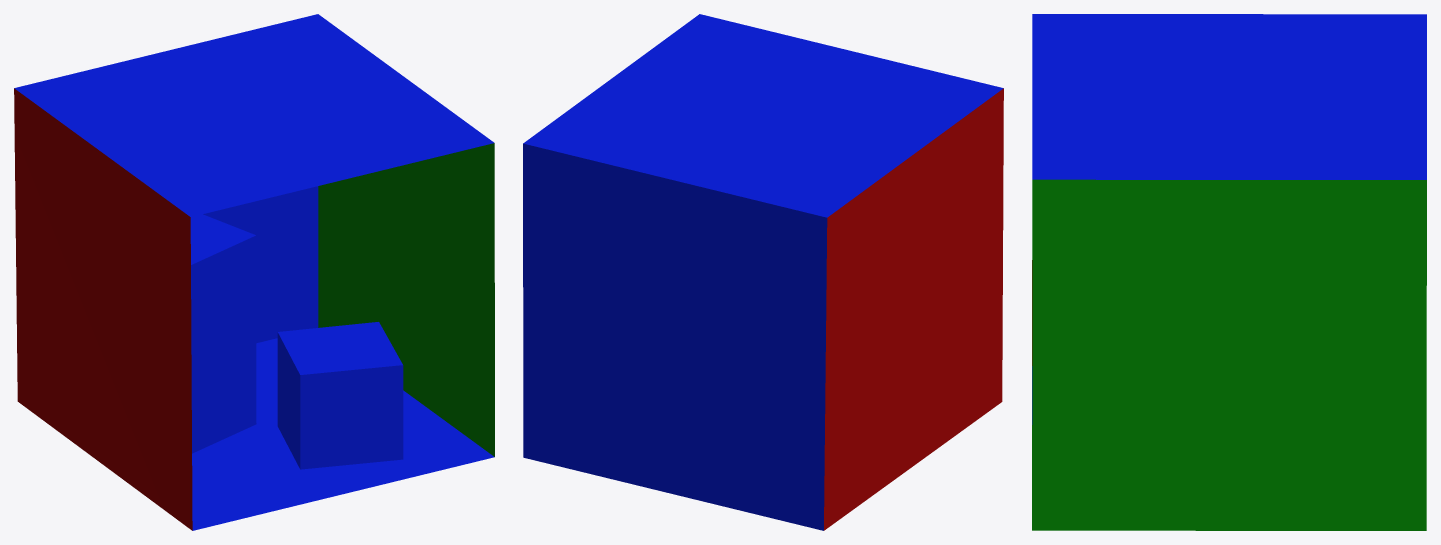
The model's file is CornellBox.gltf.
3 views of the same model, side by side, from view 1: azimuth 30°, elevation 25°; view 2: azimuth 150°, elevation 25°; view 3: azimuth 270°, elevation 25° (orthographic). The views are drawn at different scales.
Parts seen in each view (by area): view 1: left_wall, ceiling, right_wall, floor, short_box, tall_box, back_wall; view 2: back_wall, left_wall, ceiling; view 3: right_wall, ceiling.
Boxes of the visible parts, box(x1,y1,x2,y2) form: left_wall: box(14, 88, 192, 530); ceiling: box(14, 14, 494, 216); right_wall: box(318, 143, 494, 456); floor: box(192, 338, 494, 530); short_box: box(277, 322, 403, 469); tall_box: box(190, 214, 256, 453); back_wall: box(203, 186, 318, 343); back_wall: box(523, 143, 827, 530); left_wall: box(824, 88, 1003, 530); ceiling: box(523, 14, 1003, 217); right_wall: box(1032, 179, 1426, 530); ceiling: box(1032, 14, 1426, 179).
Bounding box in the file's own units: 5.56 × 5.49 × 5.6.
